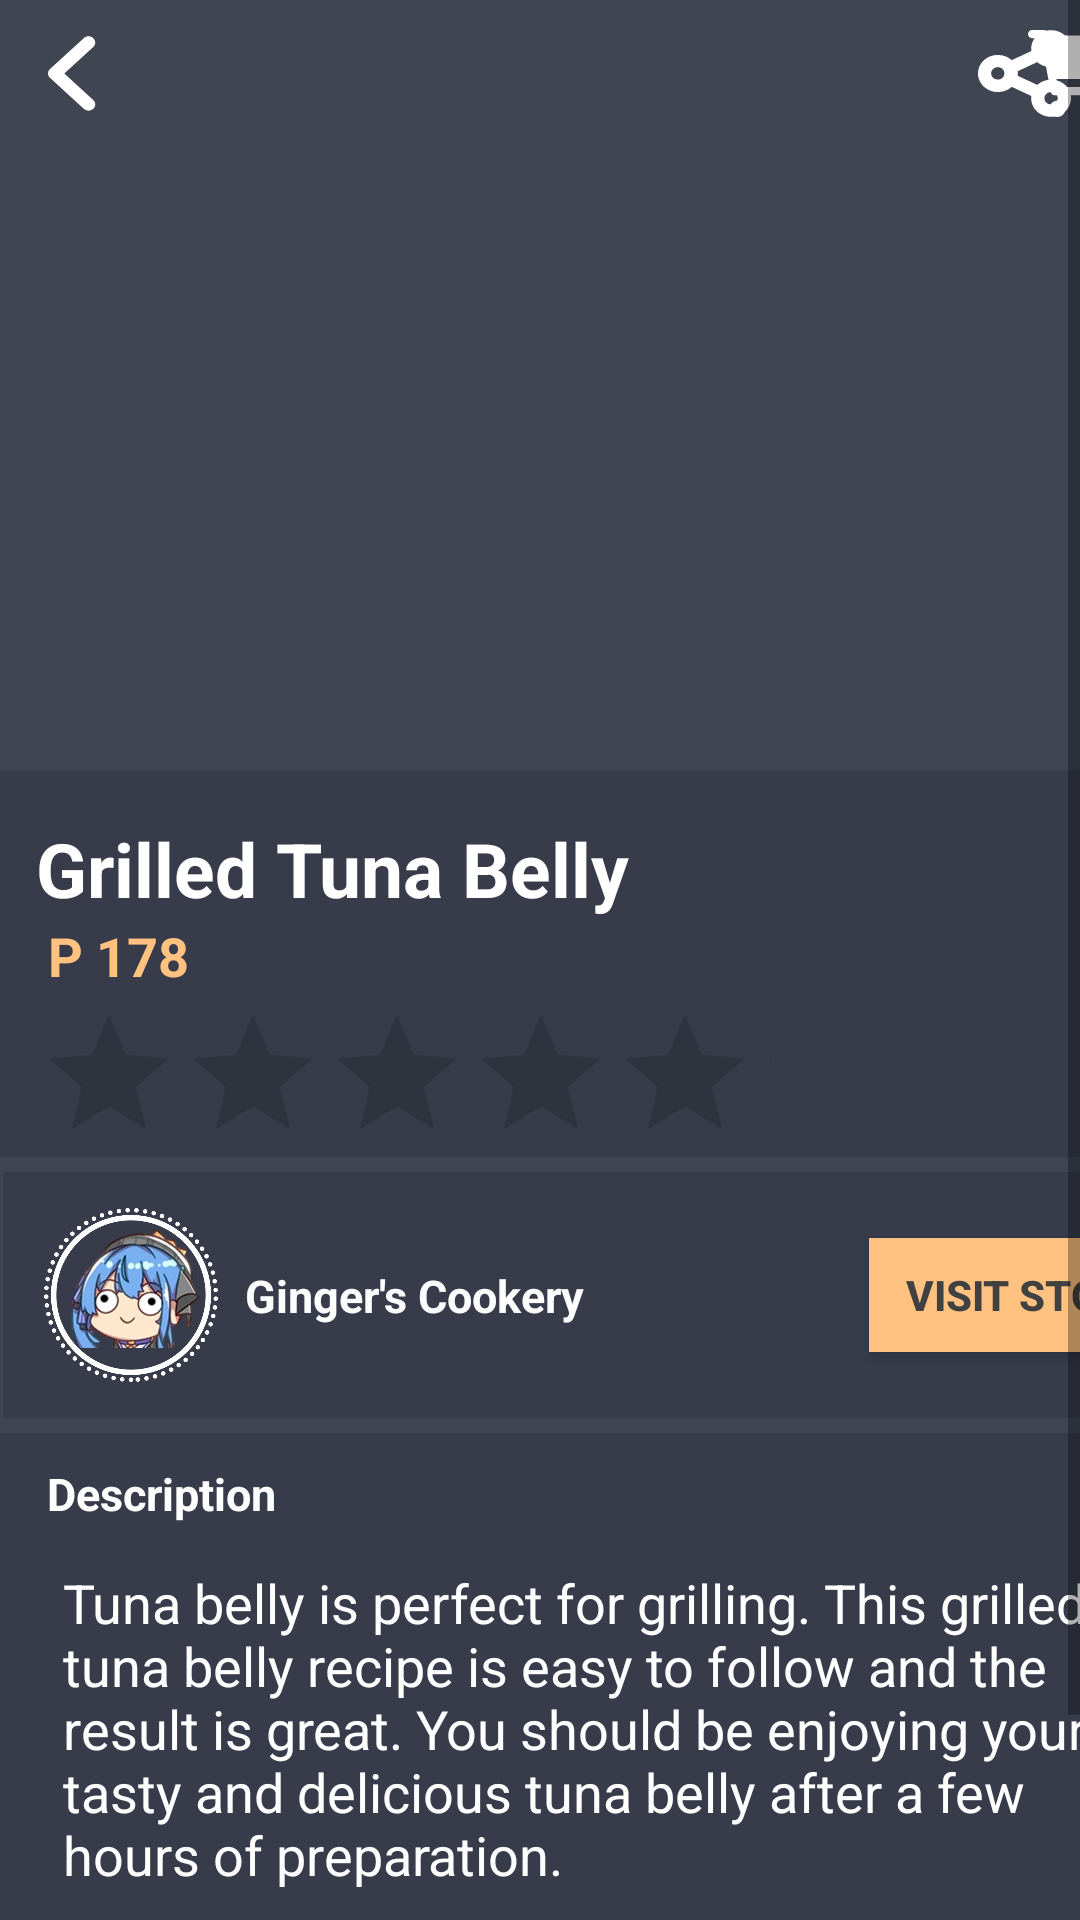

Screen size 1080px x 1920px. Icon name, then its box in pixels as (x1, y1, x2, y2):
angle left: (48, 36, 96, 111)
